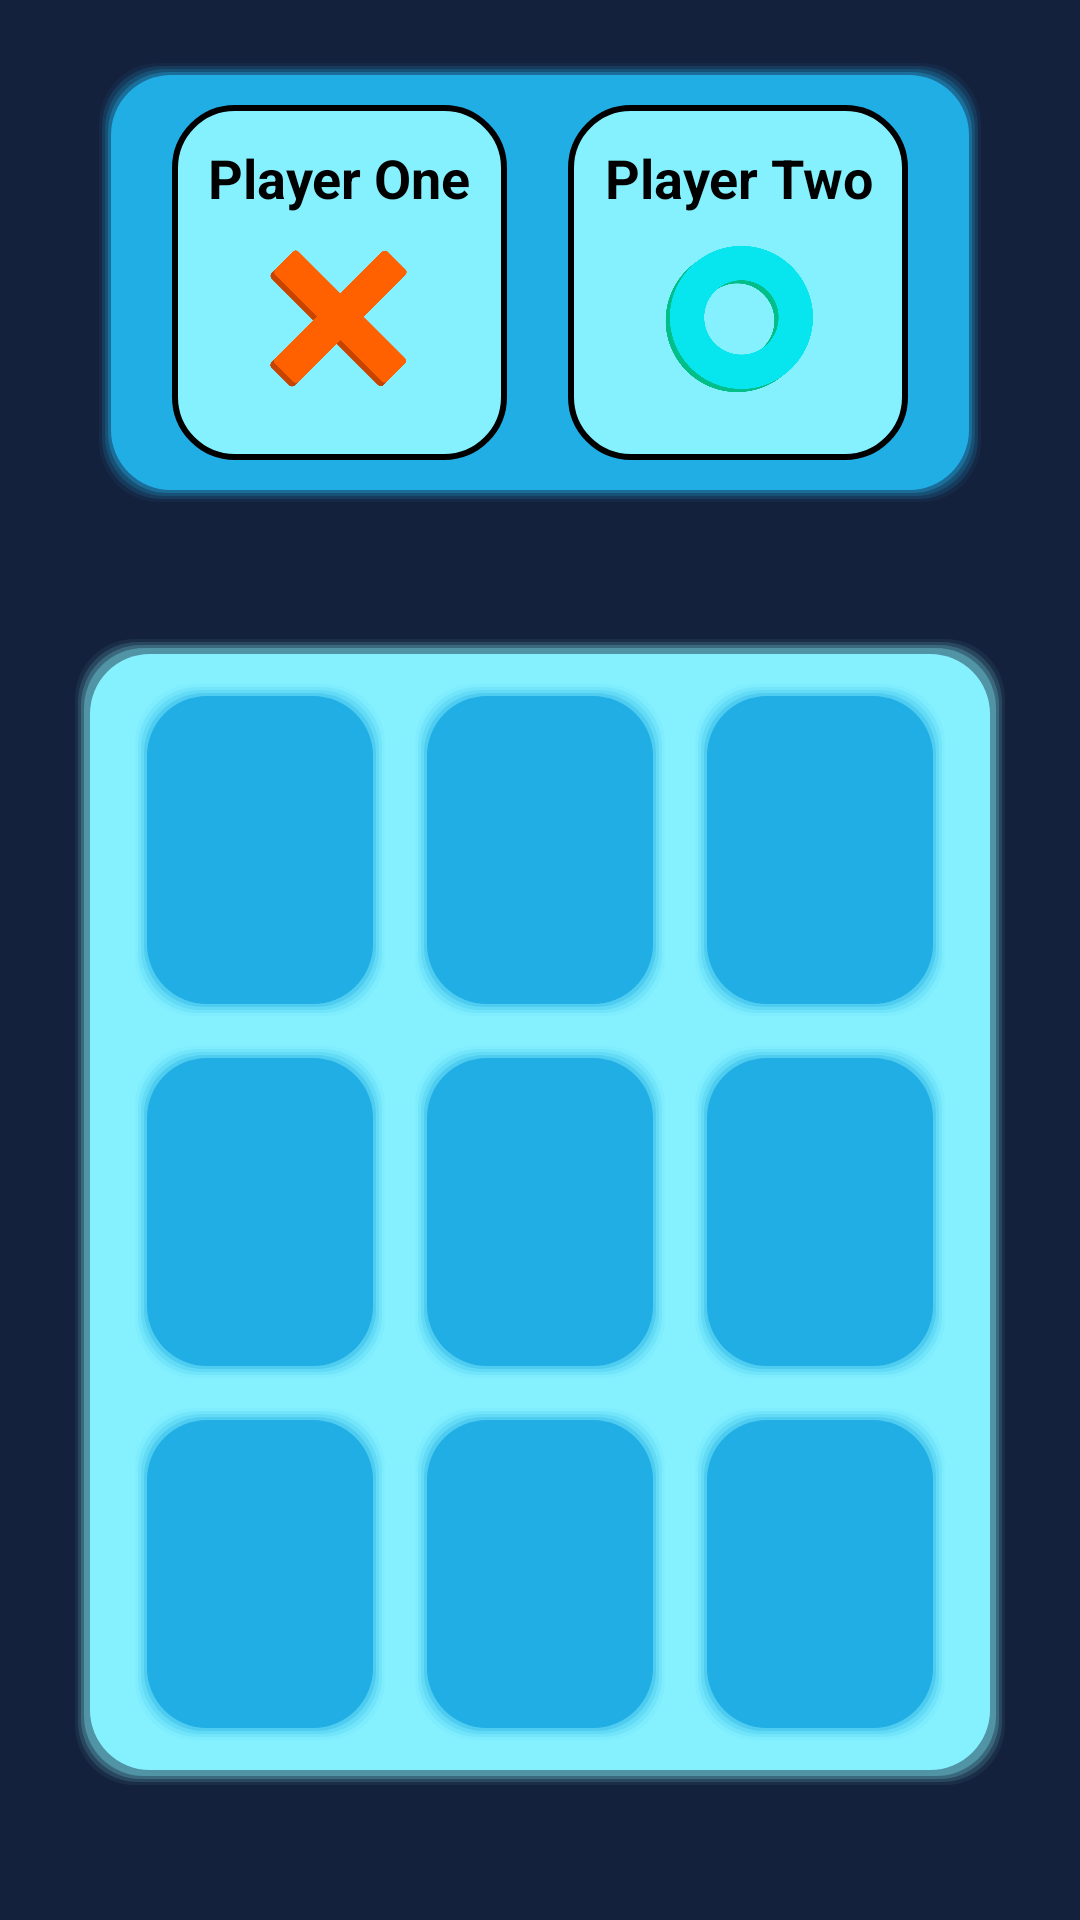

Where to tap for icons on this 1080x1920 app screen, as point (x, y):
circle: point (739, 319)
cross: point (338, 318)
